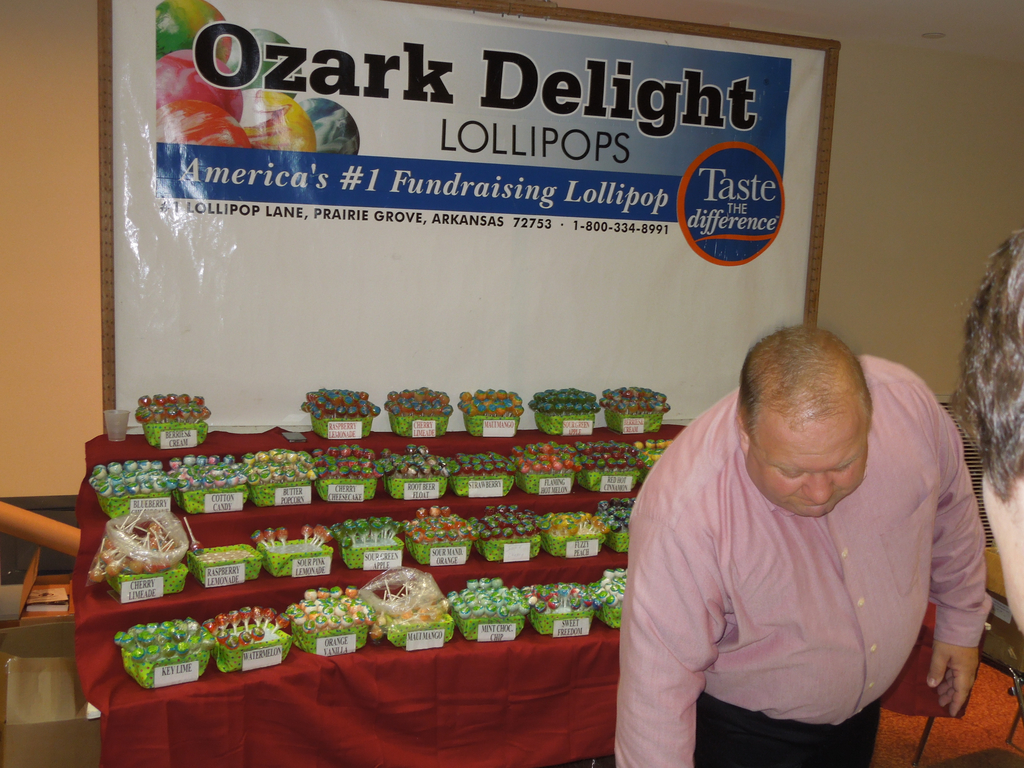Human-face: (744, 440, 863, 522), (983, 466, 1023, 634)
